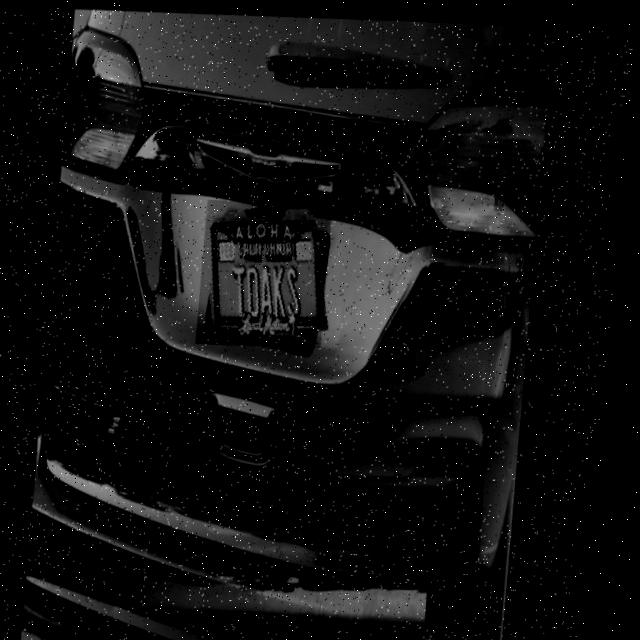LicensePlate: (199, 195, 339, 346)
